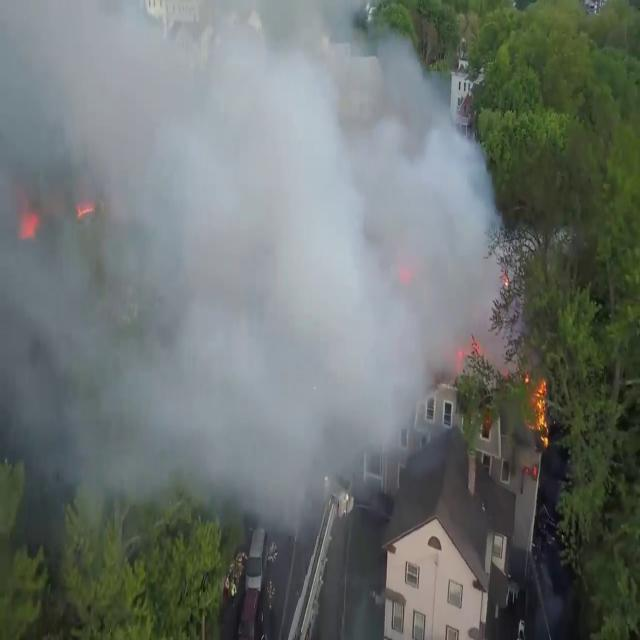Smoke: (0, 0, 507, 516)
